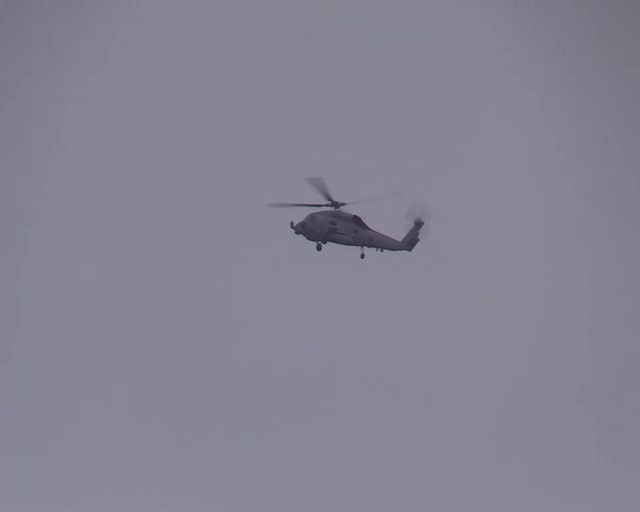HELICOPTER: (268, 175, 426, 258)
